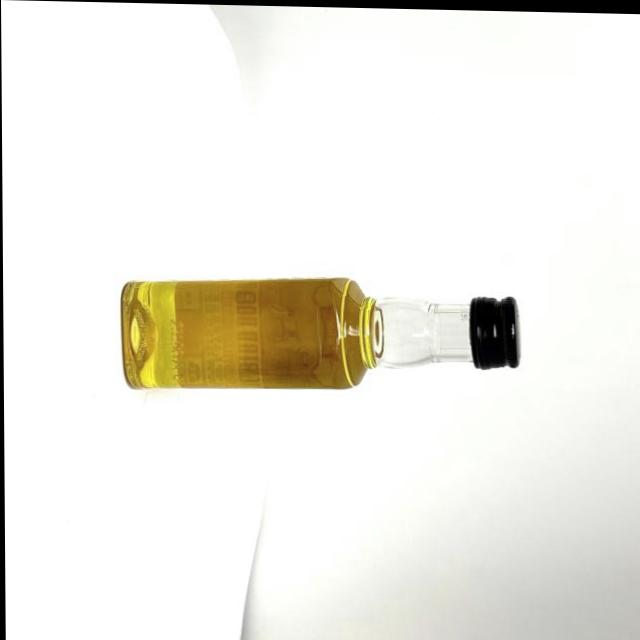BIRD DOG STRAWBERRY 50ML: (108, 255, 524, 412)
